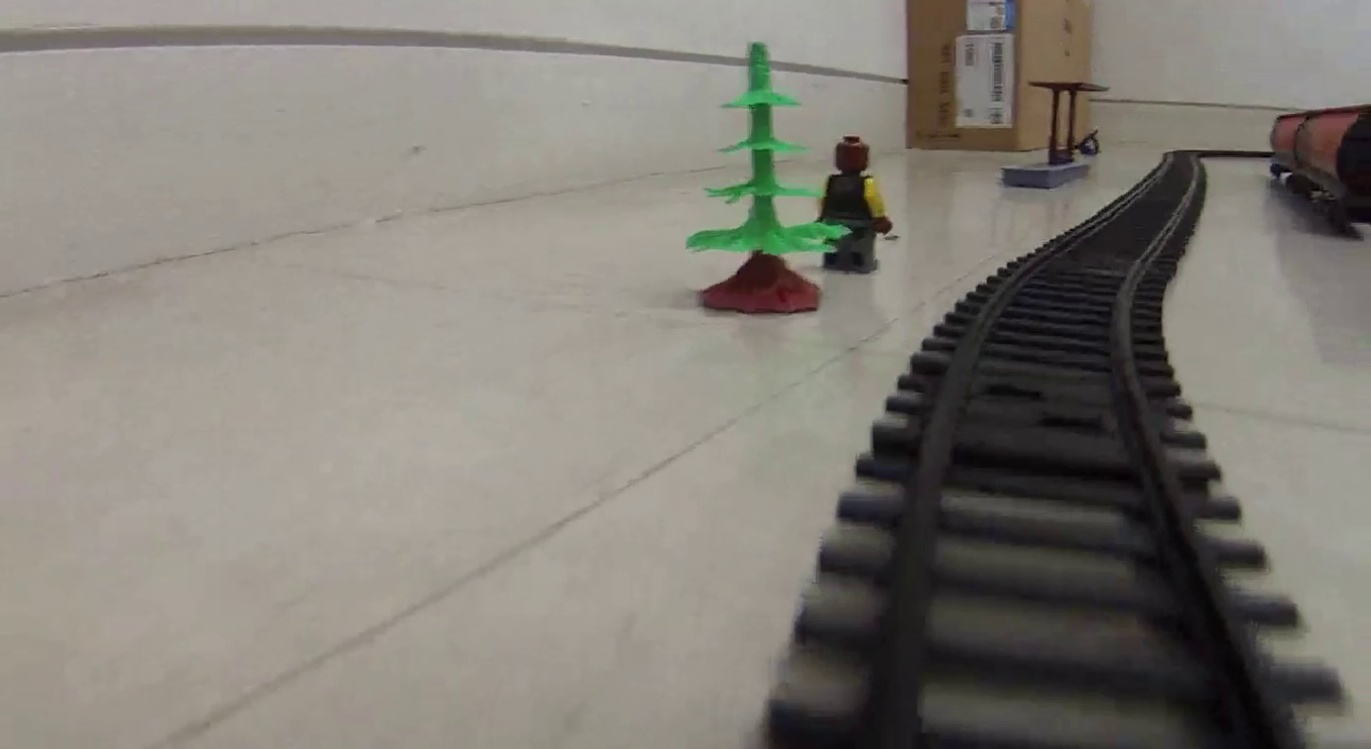people: (822, 134, 893, 273)
tree: (688, 41, 836, 313)
